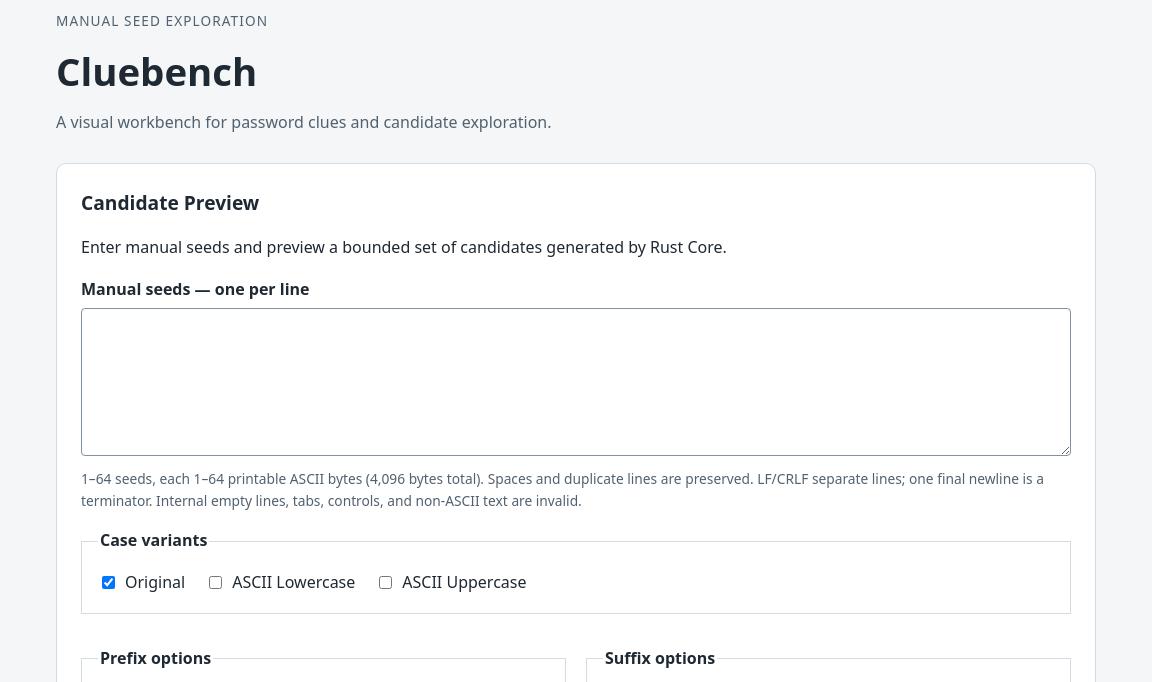
it: Preview input events before DOM normalization (React component, mock IPC) › cancels native beforeinput carrying invalid raw data for Seed
Type "kept" into the text box labelled "Manual seeds — one per line" at coordinates (576, 382), box [81,308,1071,456]
(page scrolled)
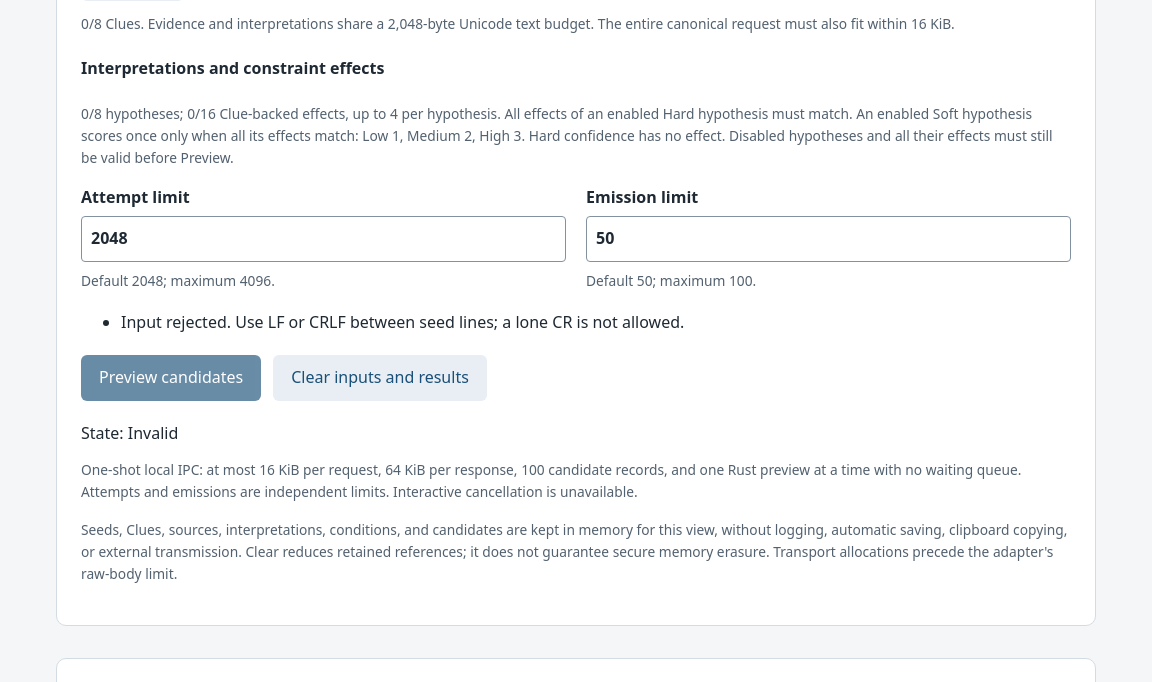
Expected: the button "Preview candidates" is disabled, [81,355,261,401]
Result: the message "Input rejected. Use LF or CRLF between seed lines; a lone CR is not allowed." is shown at [121,310,684,332]
